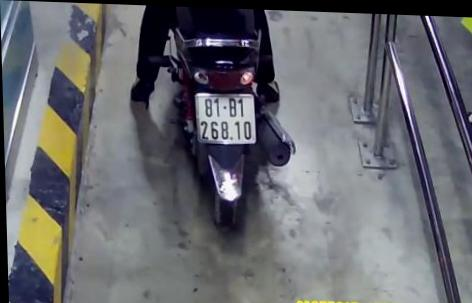License_Plate: (188, 91, 266, 149)
